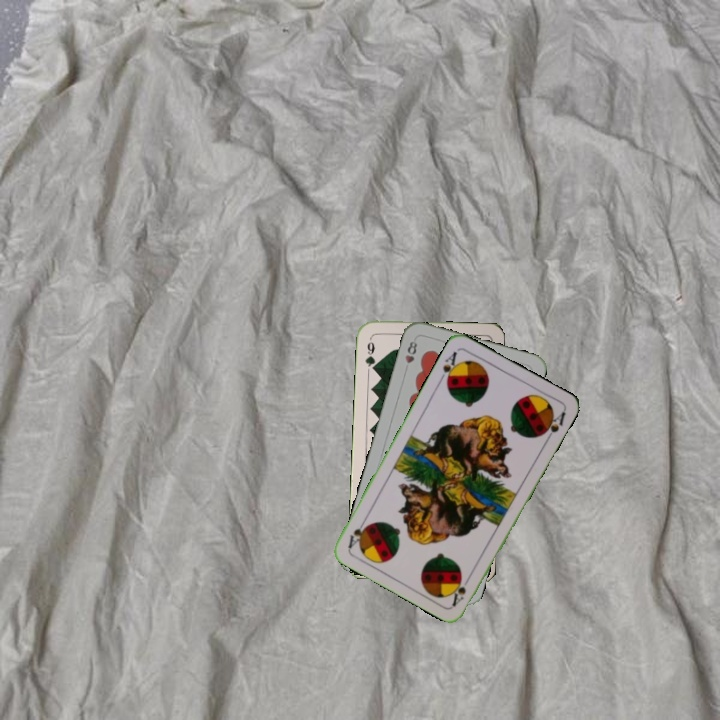G9: (361, 338, 378, 374)
H8: (401, 337, 420, 366)
SA: (435, 347, 462, 388), (448, 572, 474, 609)
